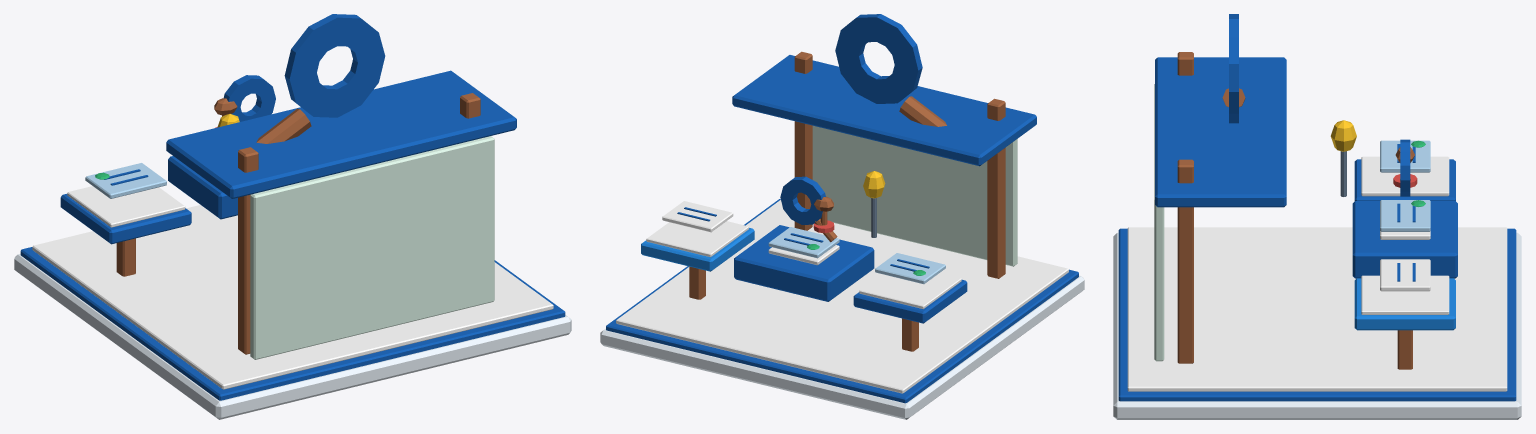
File: Building_Research_2x2_v002.fbx
The picture shows the model from 3 angles, left to right: view 1: azimuth 30°, elevation 25°; view 2: azimuth 150°, elevation 25°; view 3: azimuth 270°, elevation 25°; orthographic projection. The views are drawn at different scales.
Visible parts, largest first — view 1: FixedShell, OutputItemMesh, WorkingPartMesh; view 2: FixedShell, WorkingPartMesh, InputItemMesh, OutputItemMesh, ProcessFinishedMesh, SecondaryToolMesh, EffectPartMesh; view 3: FixedShell, InputItemMesh, ProcessFinishedMesh, OutputItemMesh, EffectPartMesh, WorkingPartMesh.
Part boxes in pixels (x1=…): FixedShell: x1=14, y1=14, x2=571, y2=419; OutputItemMesh: x1=85, y1=163, x2=166, y2=198; WorkingPartMesh: x1=223, y1=75, x2=275, y2=121; FixedShell: x1=600, y1=14, x2=1084, y2=419; WorkingPartMesh: x1=780, y1=176, x2=837, y2=242; InputItemMesh: x1=662, y1=201, x2=733, y2=232; OutputItemMesh: x1=875, y1=253, x2=945, y2=284; ProcessFinishedMesh: x1=768, y1=227, x2=839, y2=258; SecondaryToolMesh: x1=813, y1=196, x2=834, y2=233; EffectPartMesh: x1=863, y1=171, x2=885, y2=198; FixedShell: x1=1113, y1=14, x2=1521, y2=419; InputItemMesh: x1=1380, y1=259, x2=1430, y2=291; ProcessFinishedMesh: x1=1380, y1=200, x2=1430, y2=231; OutputItemMesh: x1=1380, y1=140, x2=1430, y2=172; EffectPartMesh: x1=1330, y1=120, x2=1356, y2=151; WorkingPartMesh: x1=1400, y1=139, x2=1410, y2=196.
Size of the model in its own units: 186 by 159 by 186.
